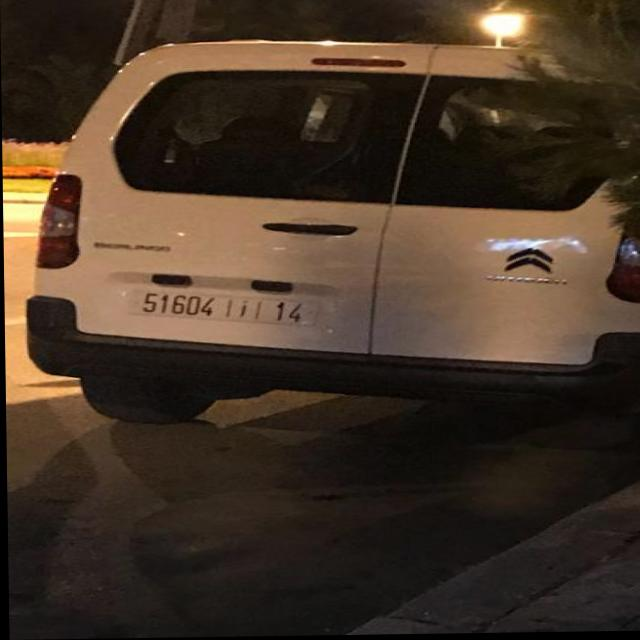License-Plate: (133, 291, 319, 327)
